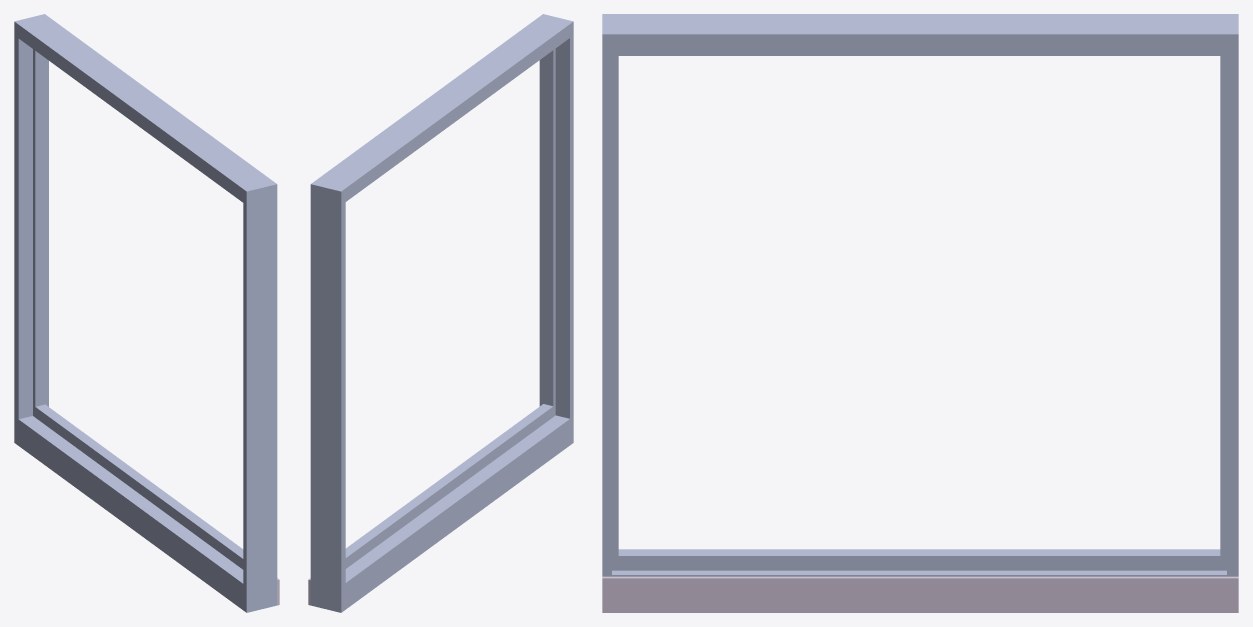
The model's file is WallFrame.fbx.
The picture shows the model from 3 angles, left to right: view 1: azimuth 30°, elevation 25°; view 2: azimuth 150°, elevation 25°; view 3: azimuth 270°, elevation 25°; orthographic projection. The views are drawn at different scales.
Parts seen in each view (by area): view 1: WallWithSkirt.001; view 2: WallWithSkirt.001; view 3: WallWithSkirt.001.
Part boxes in pixels (<box>): WallWithSkirt.001: <box>14,14,279,612</box>; WallWithSkirt.001: <box>308,14,573,612</box>; WallWithSkirt.001: <box>602,14,1238,612</box>.
Size of the model in its own units: 16.36 by 200 by 200.
